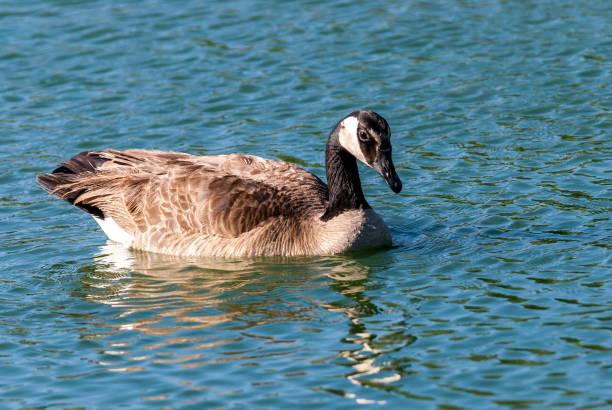Canadian-Goose: (33, 105, 407, 264)
